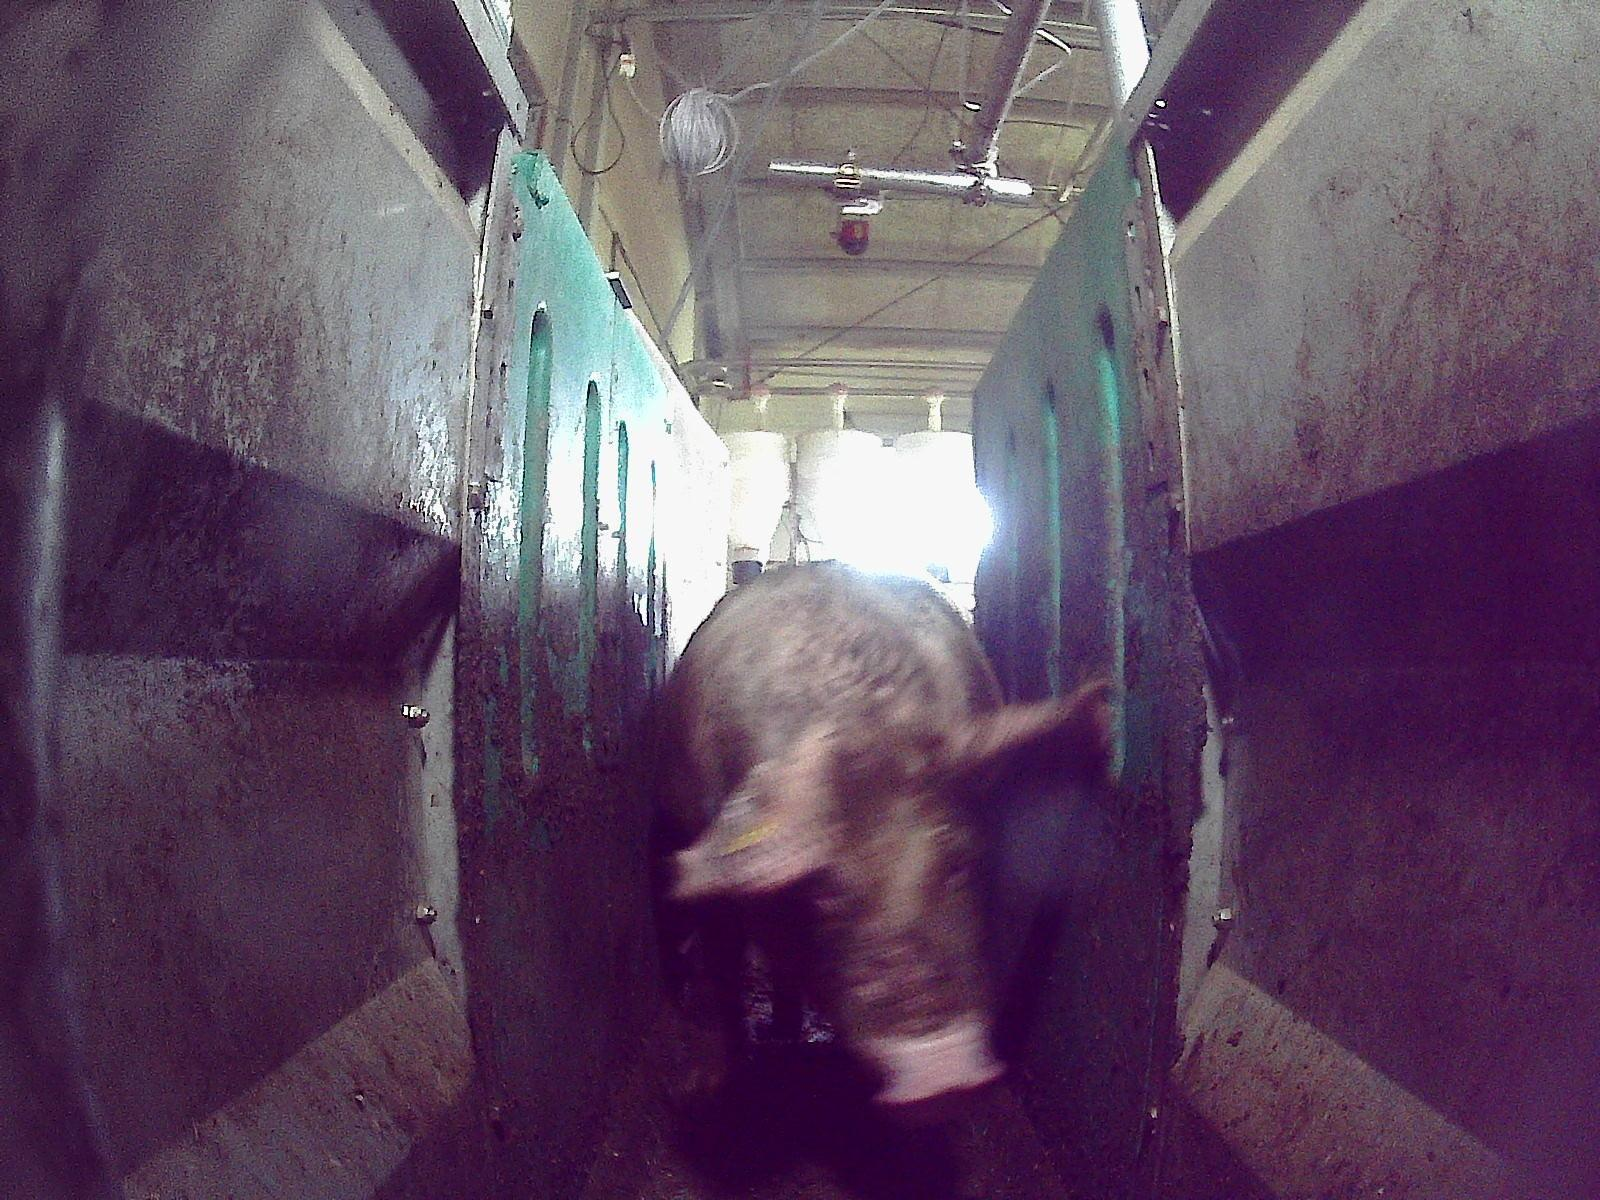Face: (748, 713, 1009, 1124)
